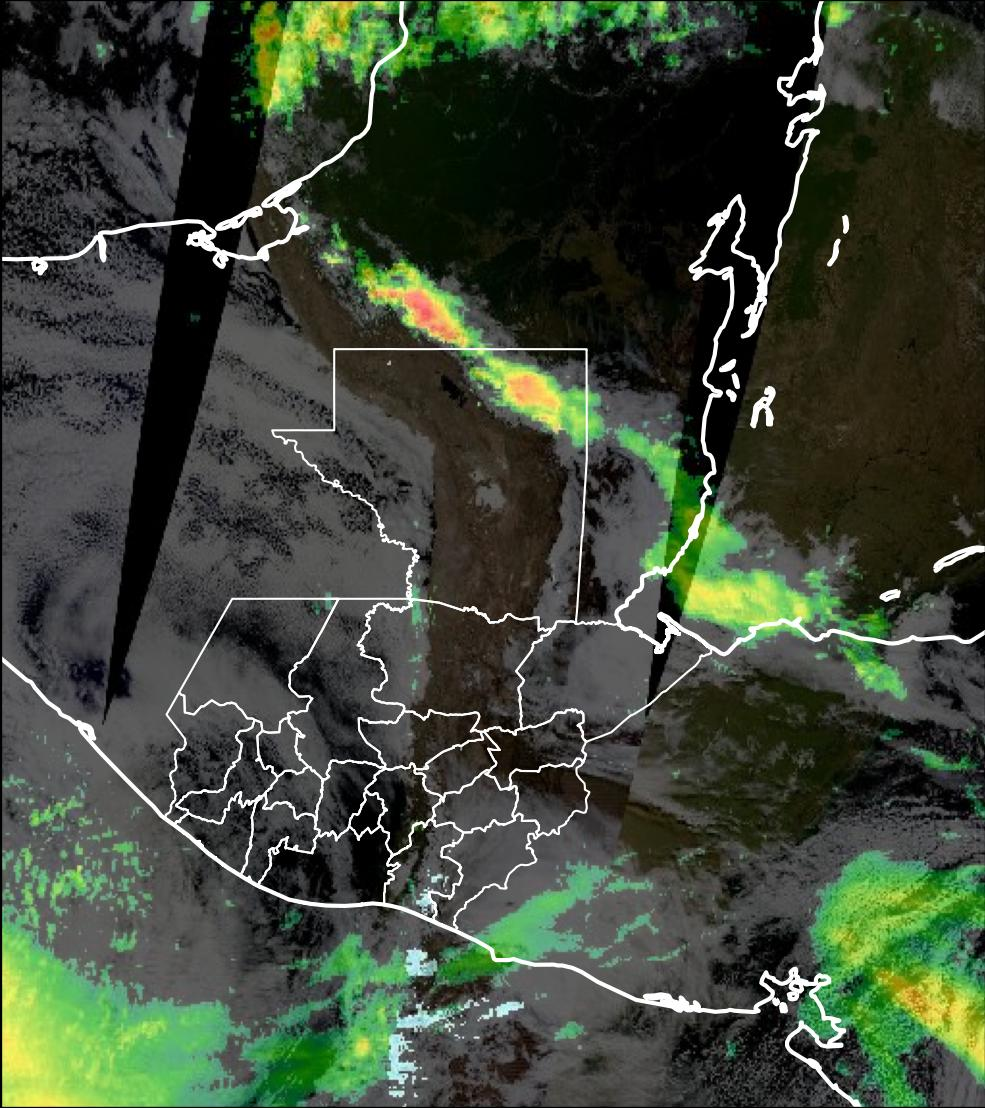precipitacion: (351, 257, 480, 353)
